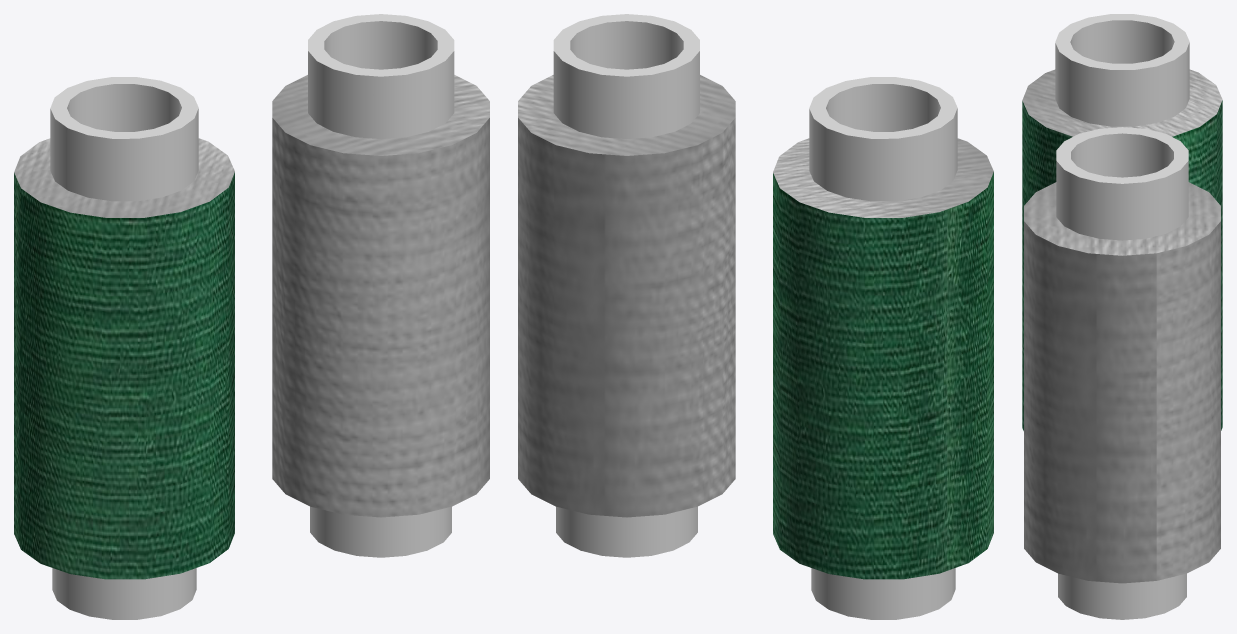
The model's file is artifical_fibres.fbx.
3 views of the same model, side by side, from view 1: azimuth 30°, elevation 25°; view 2: azimuth 150°, elevation 25°; view 3: azimuth 270°, elevation 25° (orthographic). The views are drawn at different scales.
Visible parts, largest first — view 1: green1, white; view 2: green1, white; view 3: white, green1.
Boxes of the visible parts, left/top/right/bottom form: green1: left=14, top=77, right=234, bottom=619; white: left=272, top=14, right=489, bottom=557; green1: left=773, top=77, right=993, bottom=619; white: left=518, top=14, right=735, bottom=557; white: left=1024, top=127, right=1220, bottom=619; green1: left=1022, top=14, right=1222, bottom=430.
Size of the model in its own units: 12.53 by 12.92 by 5.37.
3 materials, 2 textured.
